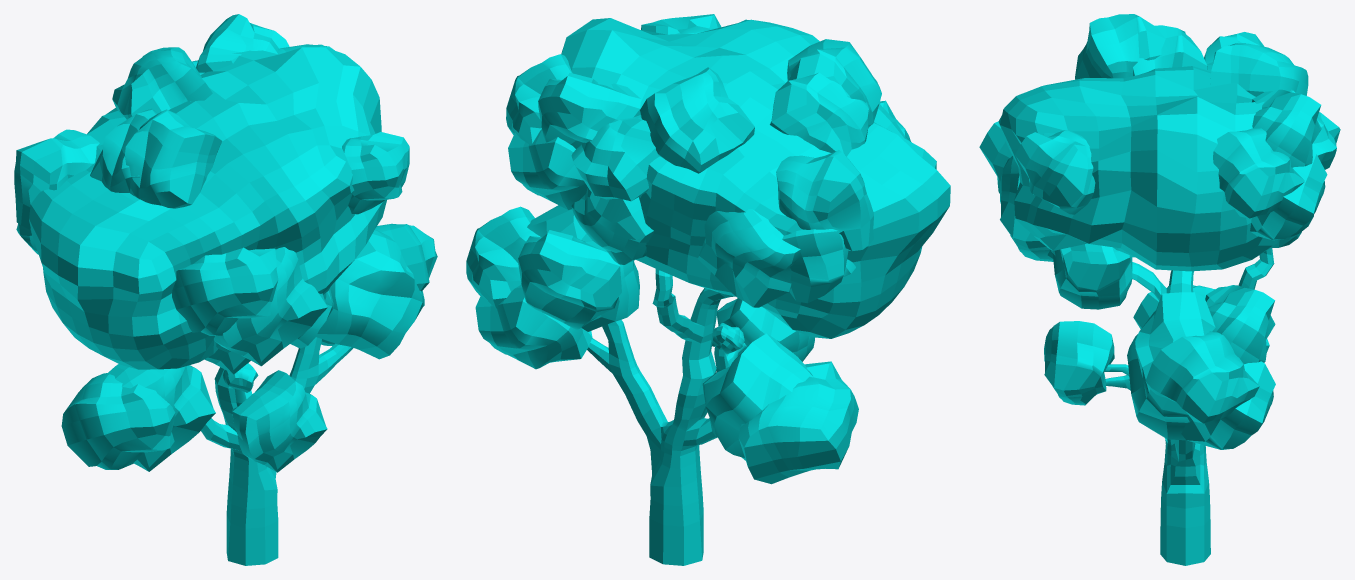
The model's file is Tree_Forest_01.fbx.
3 views of the same model, side by side, from view 1: azimuth 30°, elevation 25°; view 2: azimuth 150°, elevation 25°; view 3: azimuth 270°, elevation 25° (orthographic). The views are drawn at different scales.
Parts seen in each view (by area): view 1: Tree_Forest_01; view 2: Tree_Forest_01; view 3: Tree_Forest_01.
Part boxes in pixels (x1=…): Tree_Forest_01: x1=14, y1=14, x2=437, y2=565; Tree_Forest_01: x1=466, y1=14, x2=950, y2=565; Tree_Forest_01: x1=979, y1=14, x2=1340, y2=565.
Size of the model in its own units: 964 by 1100 by 744.
